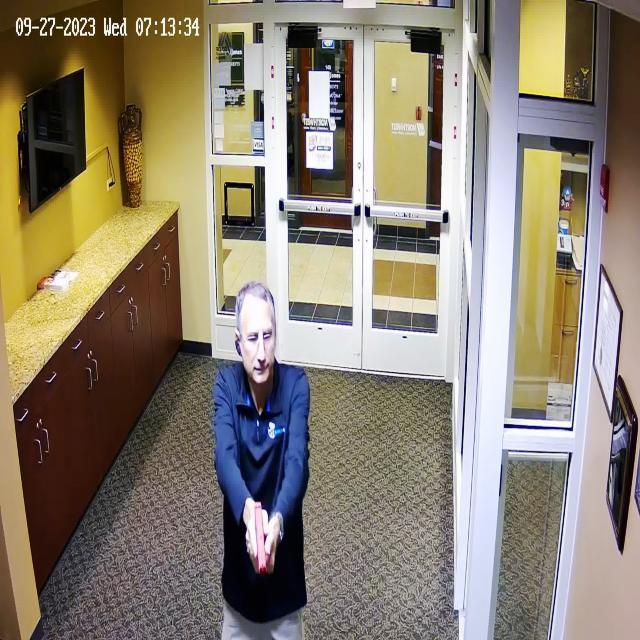Gun: (229, 488, 281, 582)
